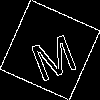M: (25, 25, 80, 83)
